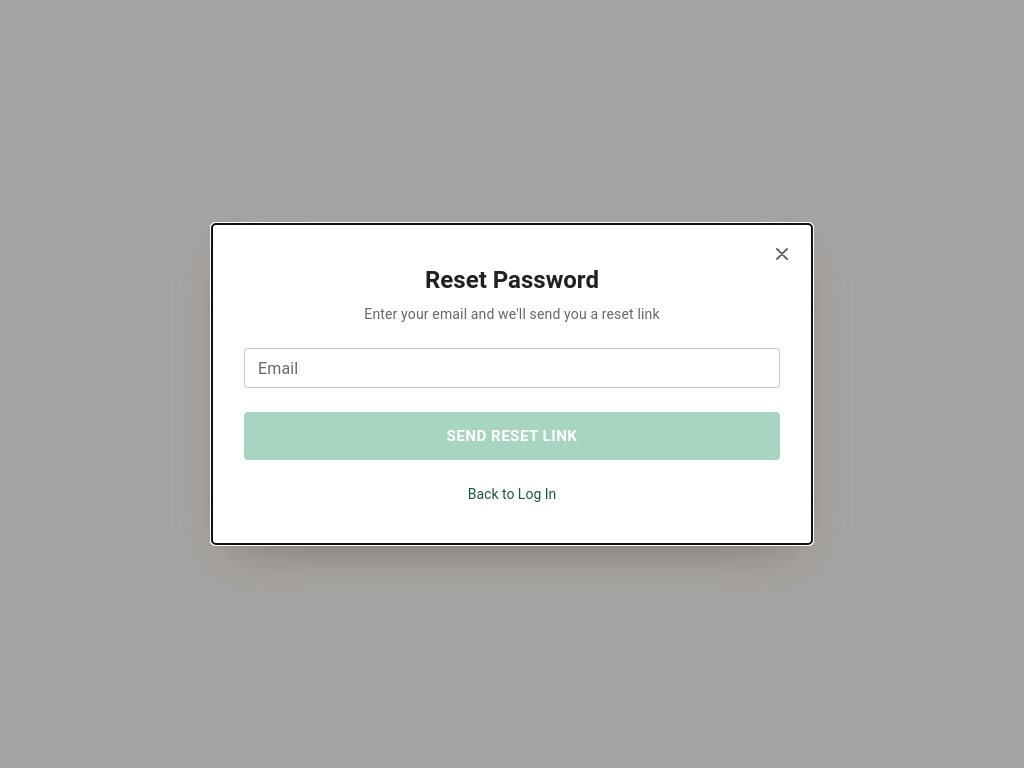
Test: AuthModal — forgot-password mode › "Send Reset Link" button is disabled until email is valid
Expected: the button "Send Reset Link" is disabled, [244,412,780,460]
Type "user@example.com" into the field with placeholder "Email" at (512, 368), box [244,348,780,388]
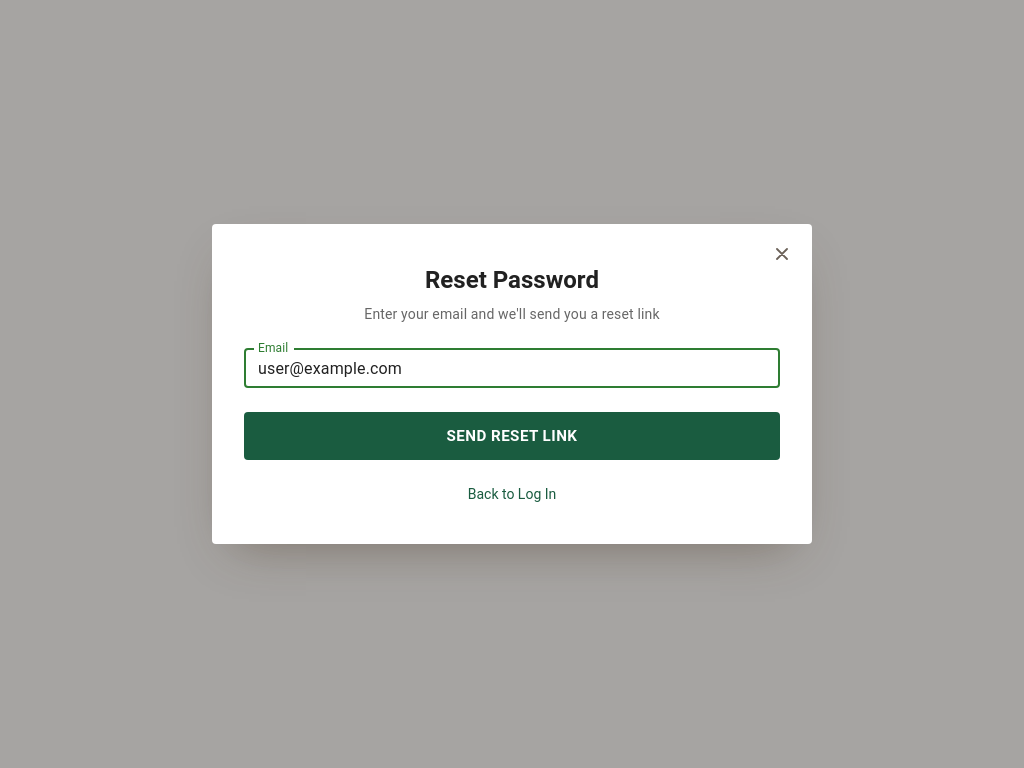
Now the button "Send Reset Link" is enabled, box [244,412,780,460]
